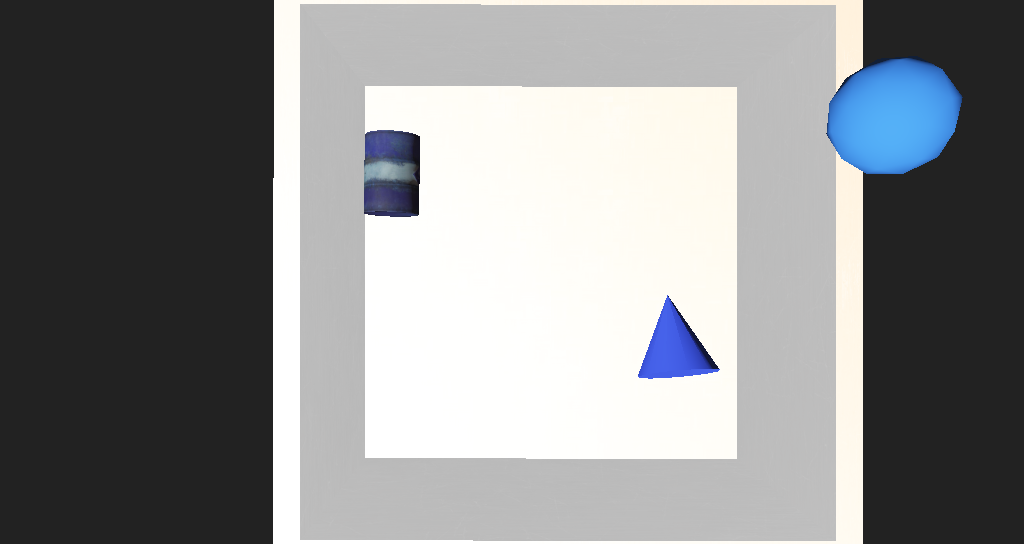cone: (350, 186, 404, 234)
cylinder: (569, 274, 643, 336)
sphere: (697, 160, 785, 222)
